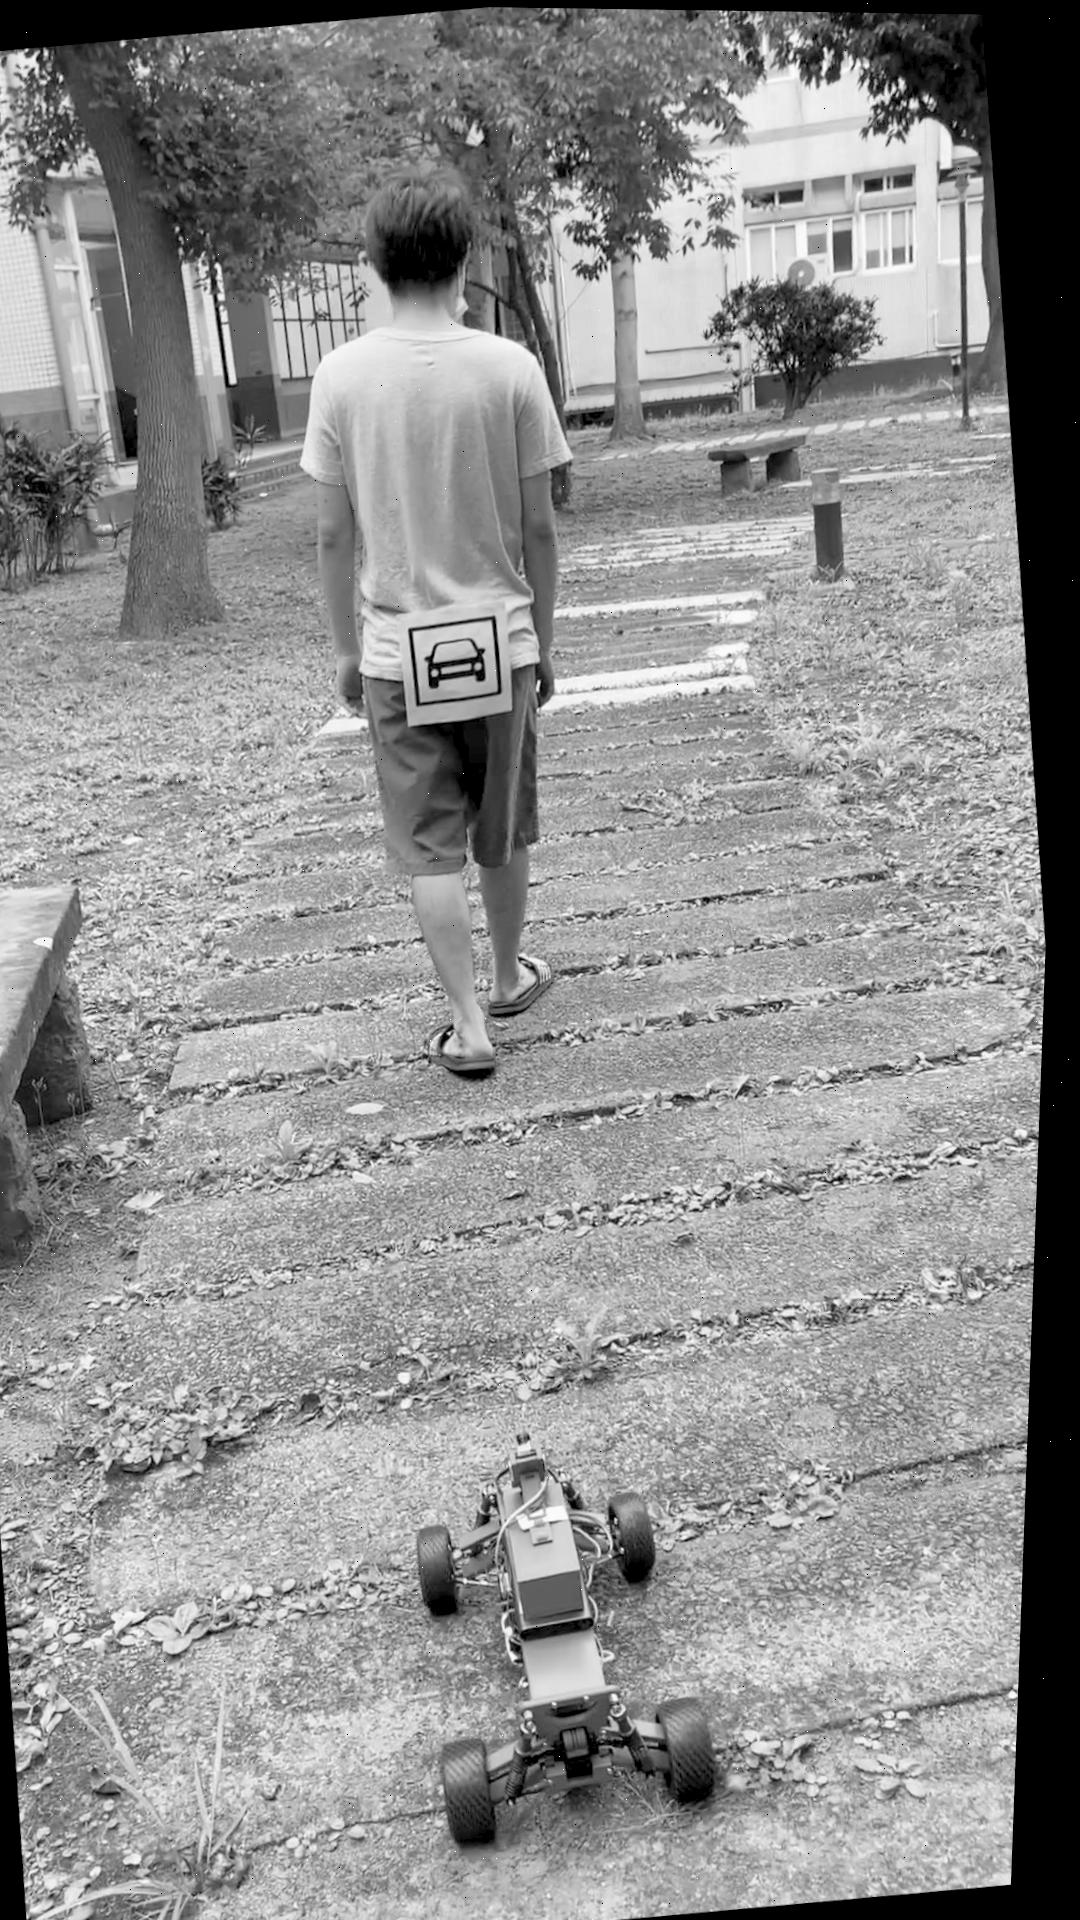car_img: (409, 611, 512, 707)
